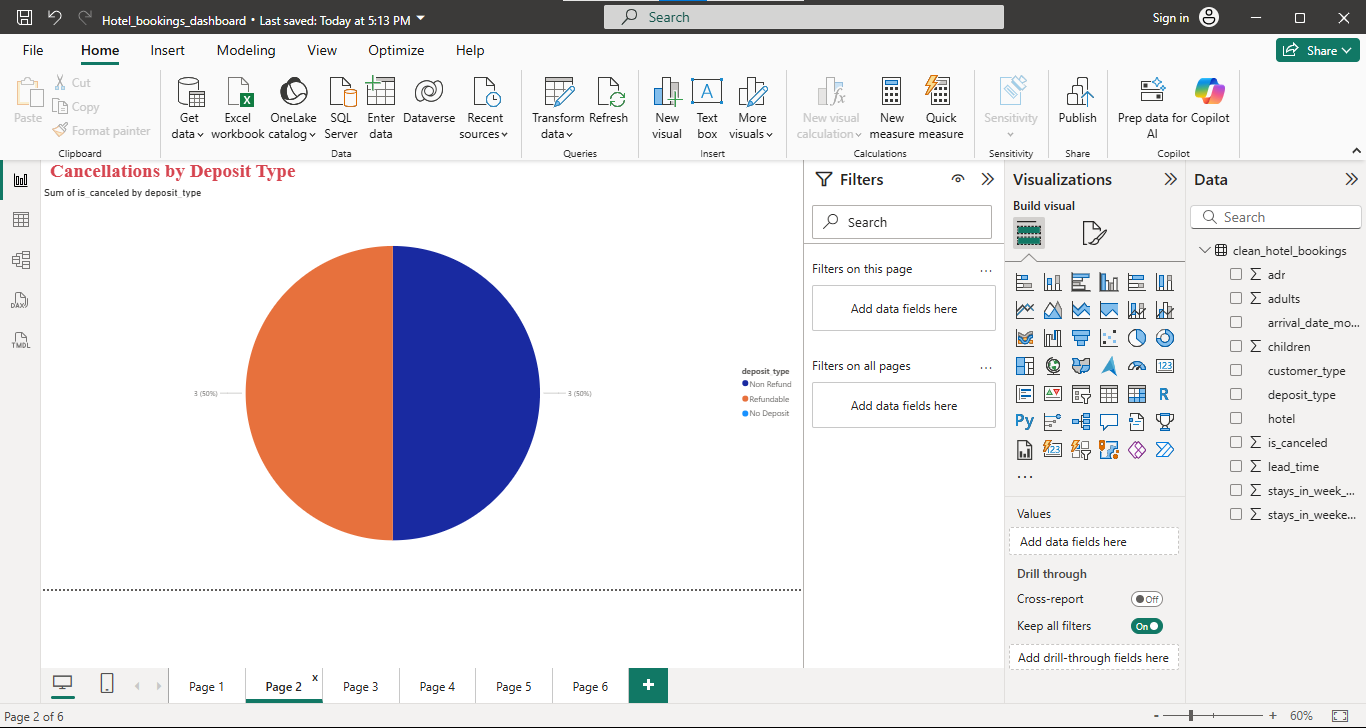

This screenshot's page, from the dashboard's own definition file:
{"tool":"powerbi","page":{"name":"Page 2","canvas":[1280,720],"ordinal":1},"visuals":[{"type":"pieChart","fields":{"Category":["clean_hotel_bookings.deposit_type"],"Y":["Sum(clean_hotel_bookings.is_canceled)"]},"box":[0,43.7,1280,677],"z":0},{"type":"textbox","title":"Cancellations by Deposit Type","box":[10.1,0,629.9,43.7],"z":1}]}

Visuals, with their boxes on the page's 1280x720 design canvas (x1, y1, x2, y2). These are canvas units, not pixel positions in the 1366x728 screenshot, which may show the page scaled, cropped or inside an application window:
pieChart - clean_hotel_bookings.deposit_type x Sum(clean_hotel_bookings.is_canceled): box=[0, 44, 1280, 721]
"Cancellations by Deposit Type" textbox: box=[10, 0, 640, 44]
